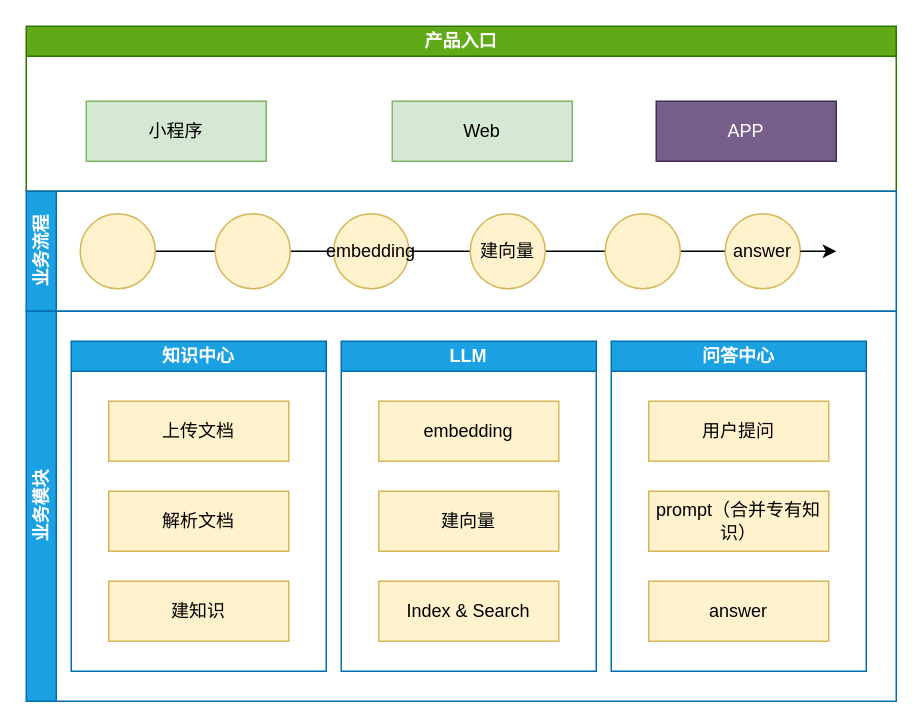
The diagram is 923 pixels wide and 728 high, and some of its shapes have lost their labels. Here are the shapes that lost their labels. From the top down, the centre of each, then its label:
At [117,250]: "上传".
At [252,250]: "建知识库".
At [642,250]: "ask".
